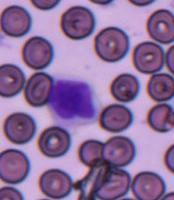M: (46, 74, 100, 127)
